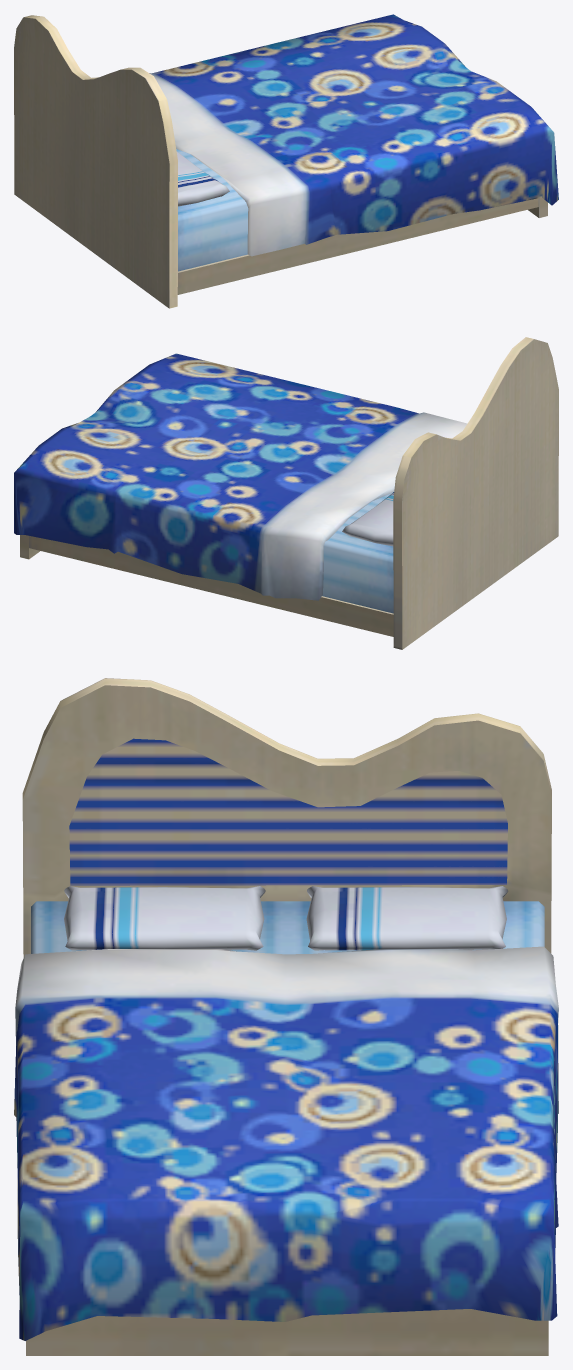
Rendered from furni_0200500.FBX.
The picture shows the model from 3 angles, top to bottom: view 1: azimuth 30°, elevation 25°; view 2: azimuth 150°, elevation 25°; view 3: azimuth 270°, elevation 25°; orthographic projection. The views are drawn at different scales.
Parts seen in each view (by area): view 1: furni_0200500; view 2: furni_0200500; view 3: furni_0200500.
Boxes of the visible parts, x1,y1,x2,y2 form: furni_0200500: (14, 14, 558, 308); furni_0200500: (14, 337, 558, 649); furni_0200500: (14, 678, 558, 1355).
Bounding box in the file's own units: 227 × 118 × 161.
Materials: 1 (1 with a texture image).
